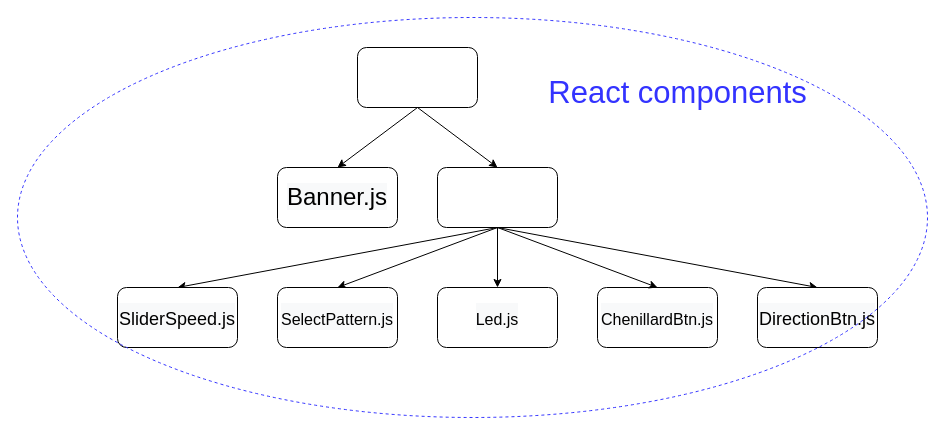
The diagram is 945 pixels wide and 435 high, and some of its shapes have lost their labels. The centre of each missing label's shape, as x and y in pixels:
"App.js" belongs at point 417,77.
"Body.js" belongs at point 497,197.
